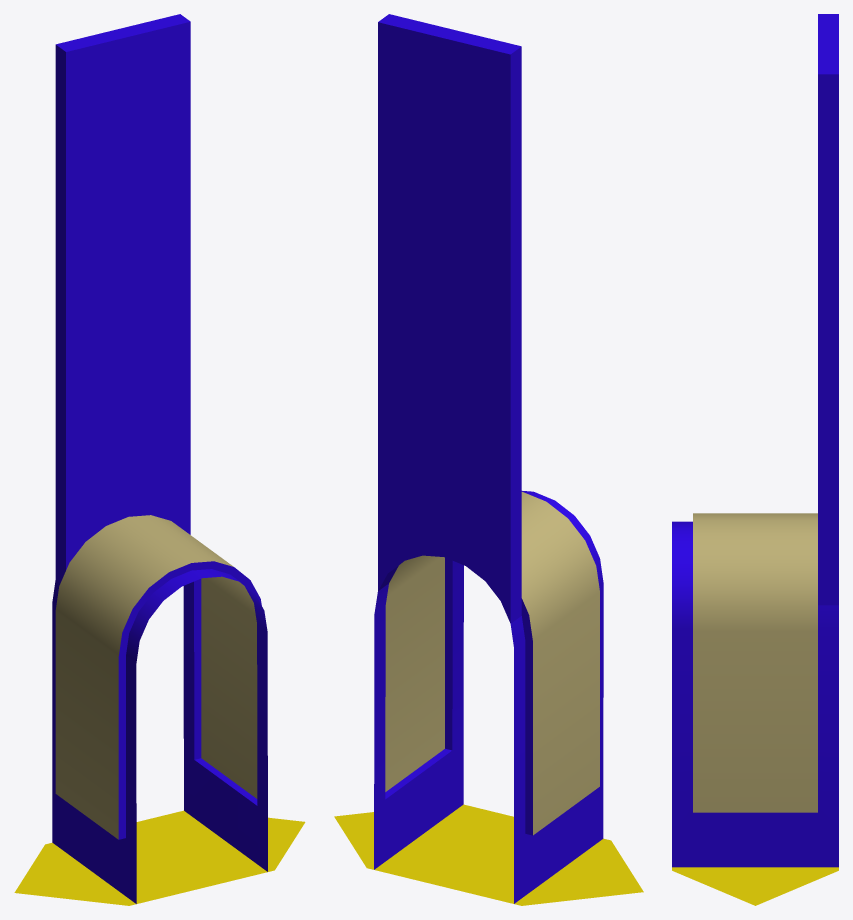
Rendered from Straight_Entrance.fbx.
3 renders of one model, left to right at view 1: azimuth 30°, elevation 25°; view 2: azimuth 150°, elevation 25°; view 3: azimuth 270°, elevation 25°, orthographic. The views are drawn at different scales.
Parts seen in each view (by area): view 1: Straight Entrance; view 2: Straight Entrance; view 3: Straight Entrance.
Boxes of the visible parts, x1,y1,x2,y2 form: Straight Entrance: (14, 14, 305, 905); Straight Entrance: (334, 14, 643, 905); Straight Entrance: (672, 14, 838, 905).
Bounding box in the file's own units: 240 × 628 × 120.
